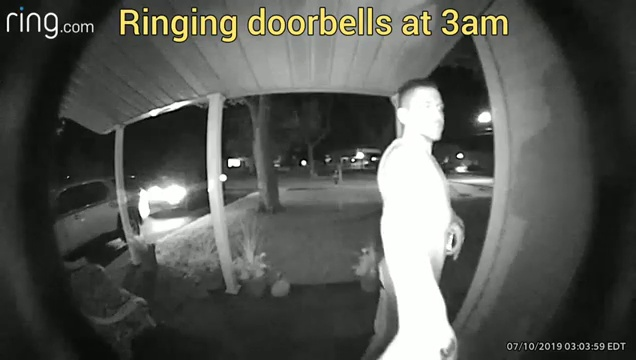face: (408, 90, 446, 140)
